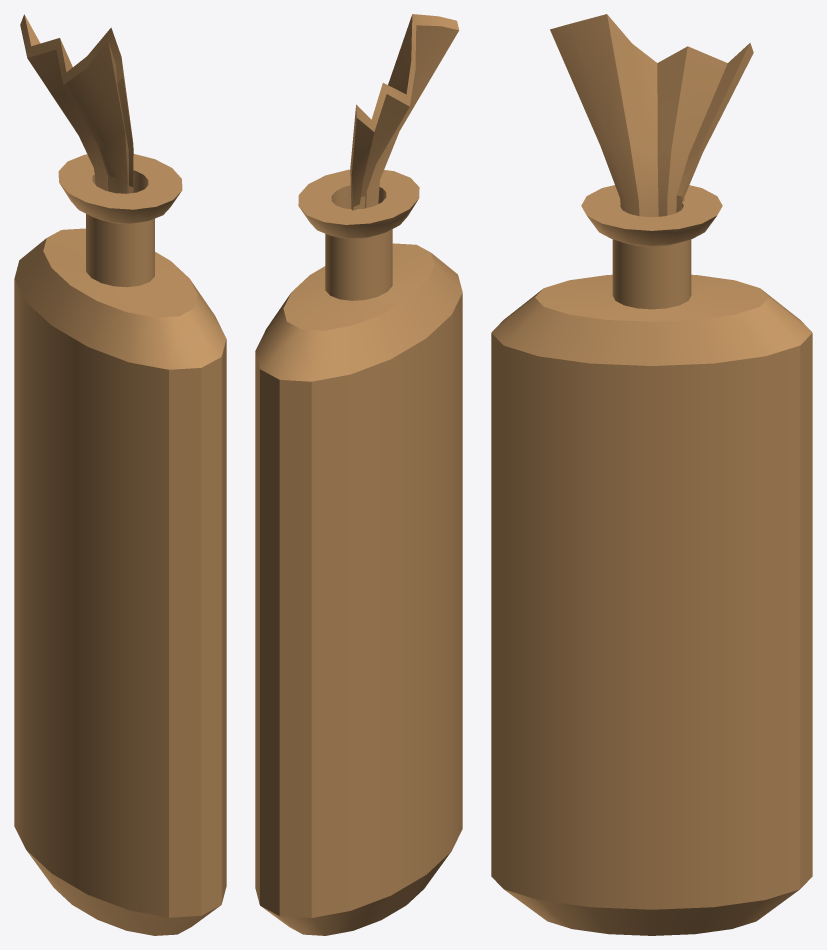
File: wybuch_1.2.obj
3 renders of one model, left to right at view 1: azimuth 30°, elevation 25°; view 2: azimuth 150°, elevation 25°; view 3: azimuth 270°, elevation 25°, orthographic. The views are drawn at different scales.
Parts seen in each view (by area): view 1: Plane; view 2: Plane; view 3: Plane.
Part boxes in pixels (x1=…): Plane: x1=14, y1=14, x2=226, y2=935; Plane: x1=255, y1=14, x2=462, y2=935; Plane: x1=491, y1=14, x2=812, y2=935.
Size of the model in its own units: 0.3549 by 2.19 by 0.7219.
